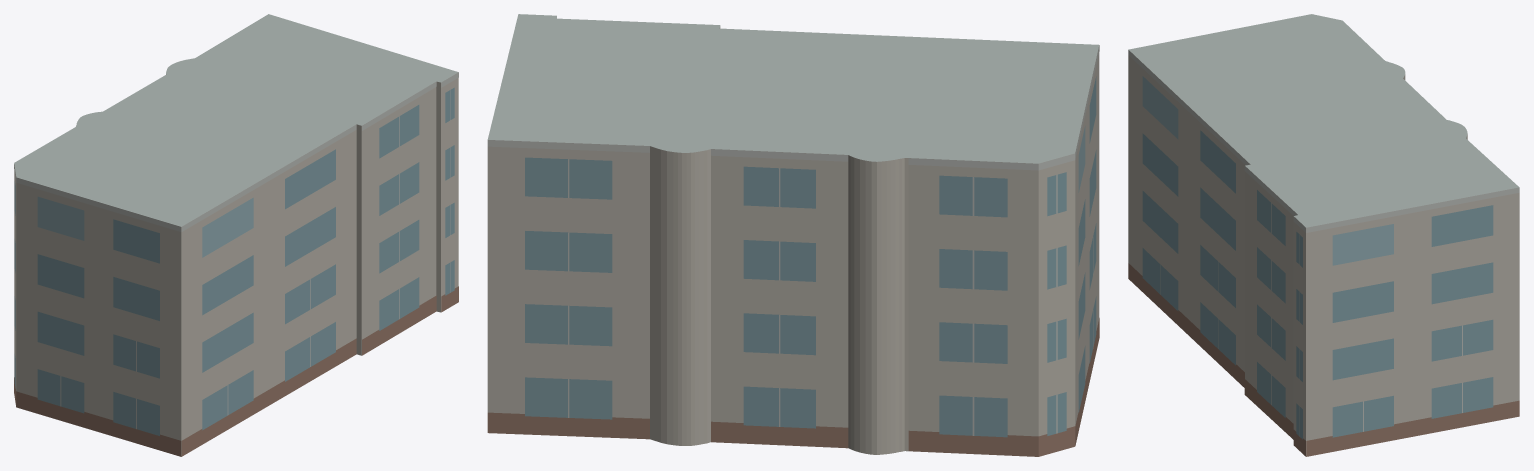
File: survey-upis-32697367.glb
3 views of the same model, side by side, from view 1: azimuth 30°, elevation 25°; view 2: azimuth 150°, elevation 25°; view 3: azimuth 270°, elevation 25° (orthographic). The views are drawn at different scales.
Parts seen in each view (by area): view 1: survey-upis-32697367.tmp; view 2: survey-upis-32697367.tmp; view 3: survey-upis-32697367.tmp.
Part boxes in pixels (x1,y1,x2,y2): survey-upis-32697367.tmp: (14, 14, 458, 456); survey-upis-32697367.tmp: (487, 14, 1099, 456); survey-upis-32697367.tmp: (1128, 14, 1519, 456).
Bounding box in the file's own units: 21.01 × 10.5 × 16.26.
